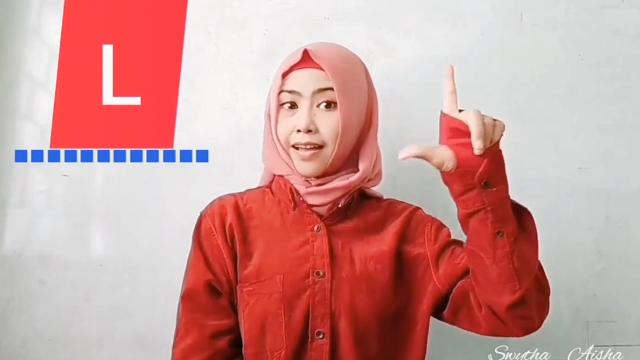L: (398, 61, 506, 175)
